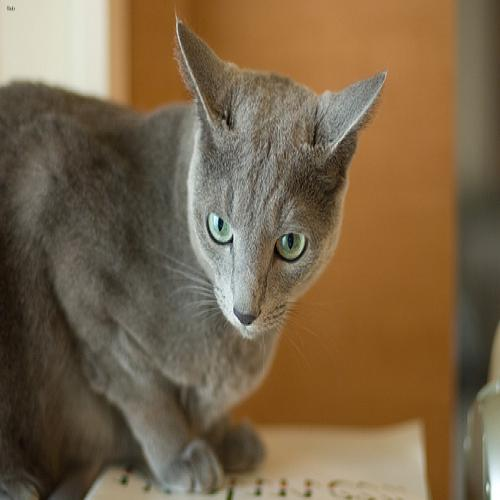rblue: (173, 6, 390, 345)
